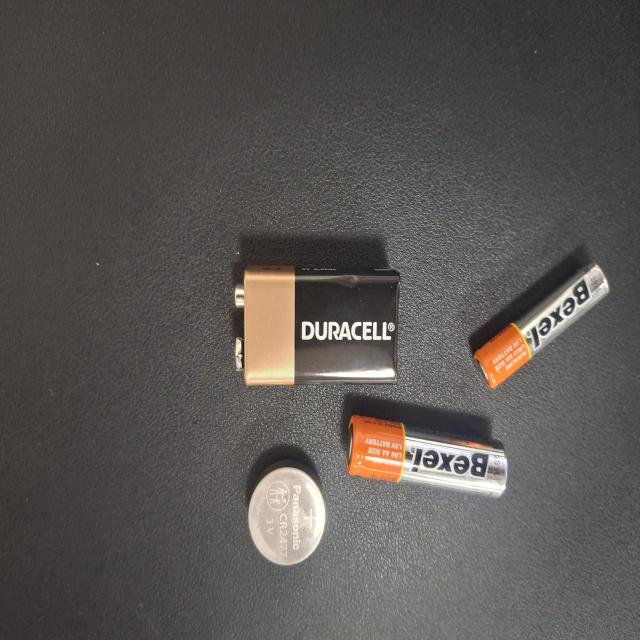9V: (200, 320, 288, 531)
AA: (311, 177, 373, 390)
AAA: (198, 41, 292, 222)
COIN: (346, 419, 423, 522)
